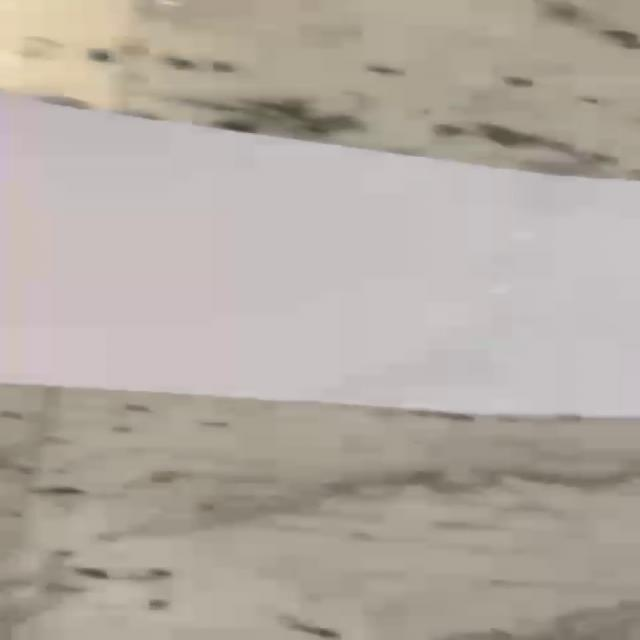road: (0, 91, 640, 422)
